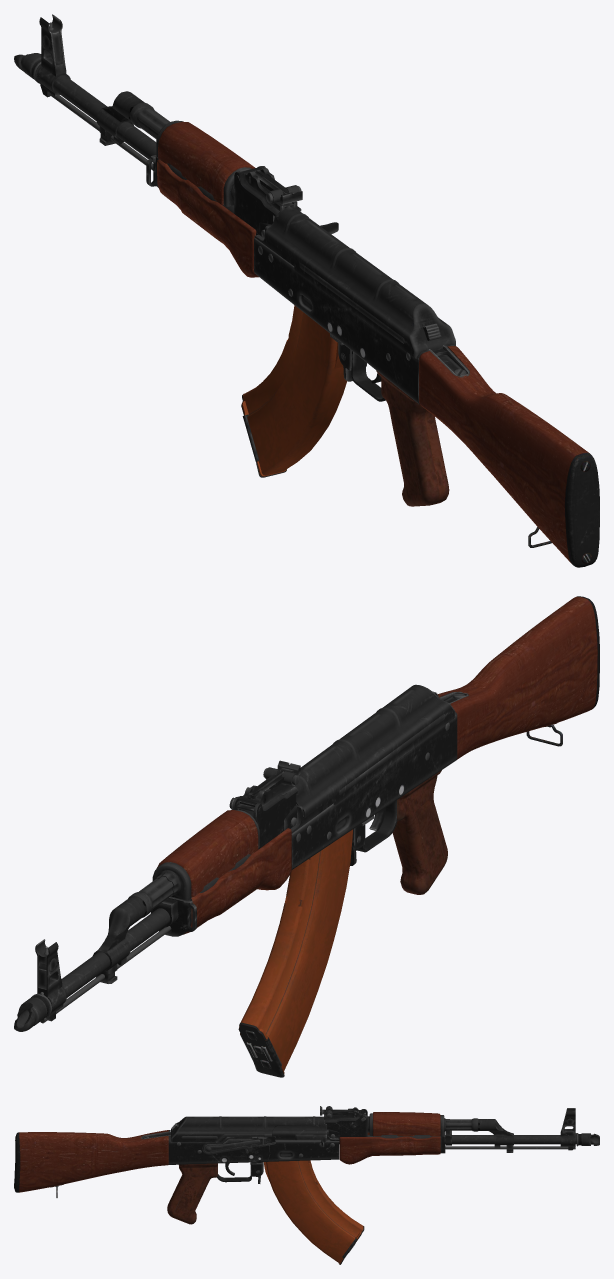
Rendered from AKM.glb.
3 renders of one model, top to bottom at view 1: azimuth 30°, elevation 25°; view 2: azimuth 150°, elevation 25°; view 3: azimuth 270°, elevation 25°, orthographic. The views are drawn at different scales.
Visible parts, largest first — view 1: AKM_Body, Mag; view 2: AKM_Body, Mag; view 3: AKM_Body, Mag.
Part boxes in pixels (bbox=[...]): AKM_Body: bbox=[14, 14, 599, 567]; Mag: bbox=[241, 305, 347, 477]; AKM_Body: bbox=[14, 596, 599, 1040]; Mag: bbox=[238, 829, 353, 1077]; AKM_Body: bbox=[14, 1106, 599, 1239]; Mag: bbox=[266, 1160, 363, 1264].
Size of the model in its own units: 0.067 by 0.2544 by 0.88.
Materials: 3 (3 with a texture image).
